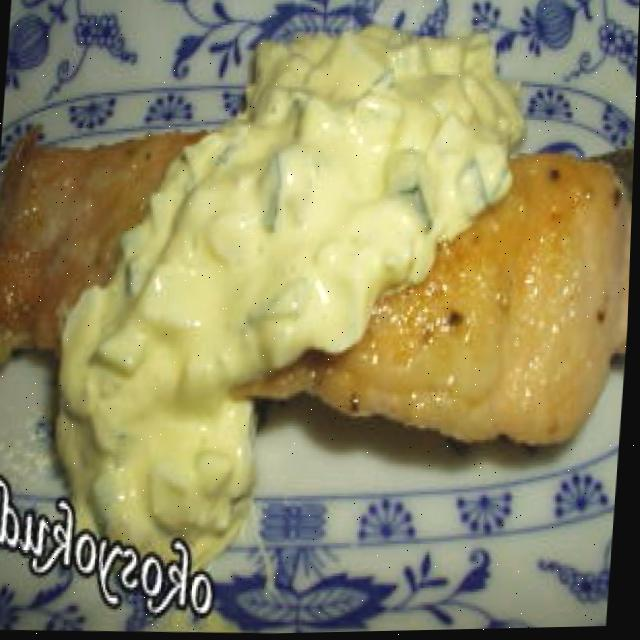熟制海鲜: (0, 80, 637, 461)
